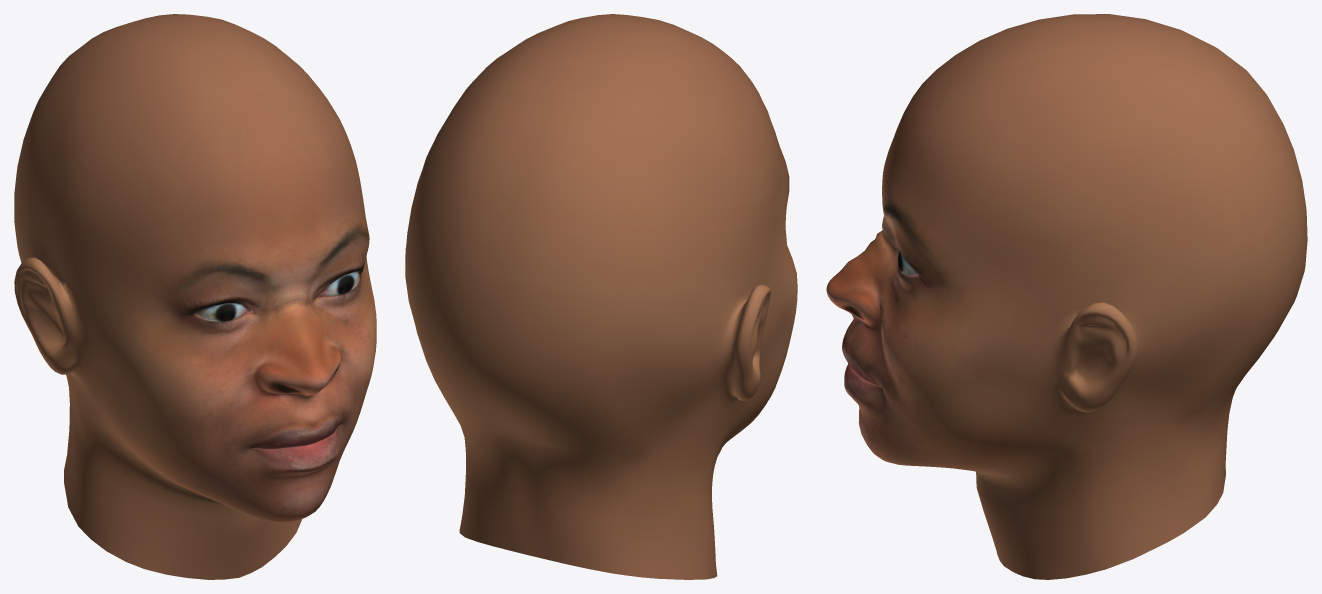
File: v332_obj_ModifierNoseWrinkler(AU09).obj
3 views of the same model, side by side, from view 1: azimuth 30°, elevation 25°; view 2: azimuth 150°, elevation 25°; view 3: azimuth 270°, elevation 25° (orthographic). The views are drawn at different scales.
Visible parts, largest first — view 1: HeadHires; view 2: HeadHires; view 3: HeadHires.
Part boxes in pixels (x1,y1,x2,y2): HeadHires: (14,14,376,579); HeadHires: (405,14,797,579); HeadHires: (826,14,1307,579).
Bounding box in the file's own units: 187 × 282 × 234.
